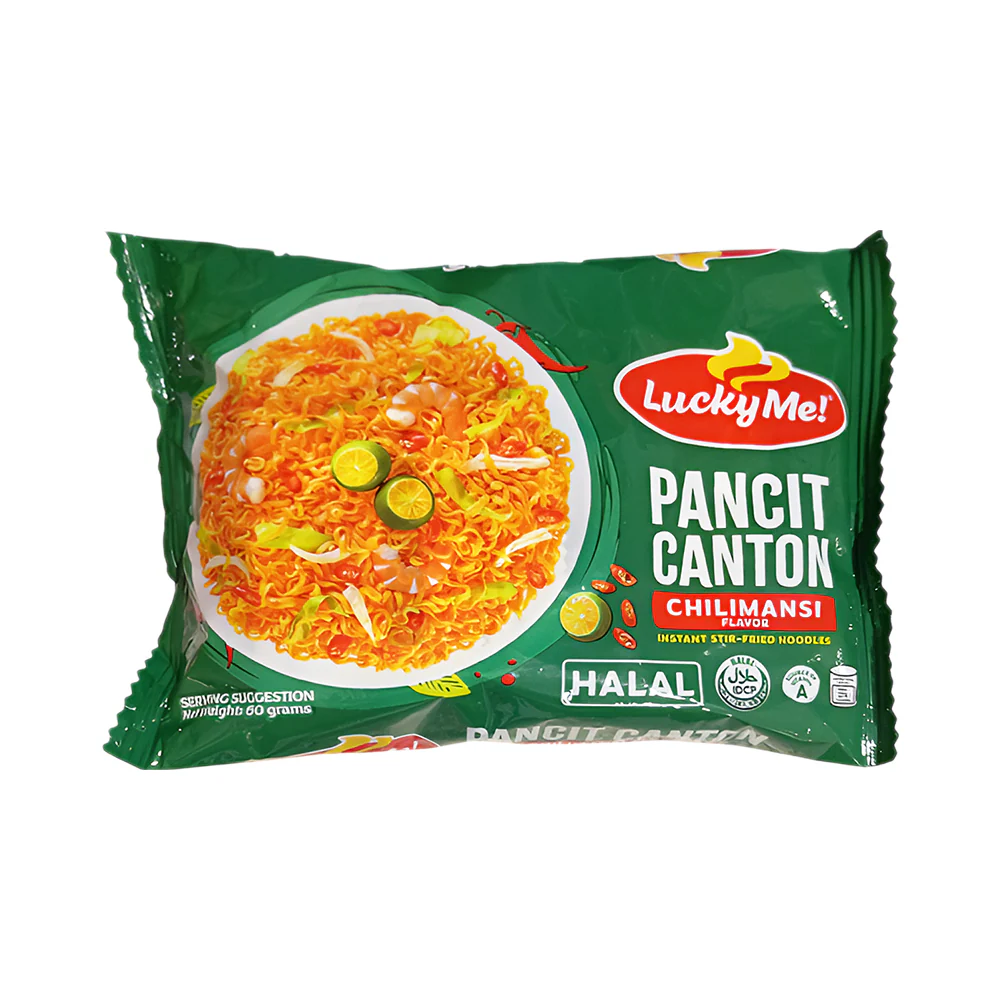non-toxic_waste: (104, 235, 872, 735)
